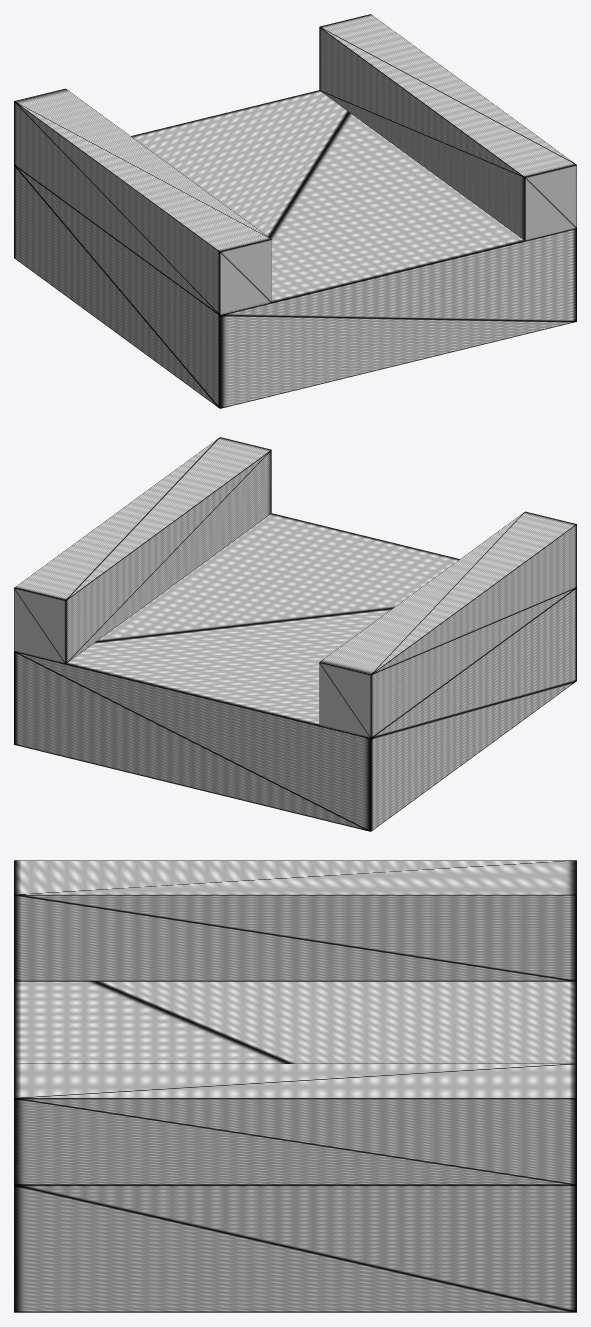
The model's file is STAGE_RAILS.obj.
3 views of the same model, one above another, from view 1: azimuth 30°, elevation 25°; view 2: azimuth 150°, elevation 25°; view 3: azimuth 270°, elevation 25° (orthographic). The views are drawn at different scales.
Size of the model in its own units: 100 by 42 by 100.
1 material, 1 textured.
